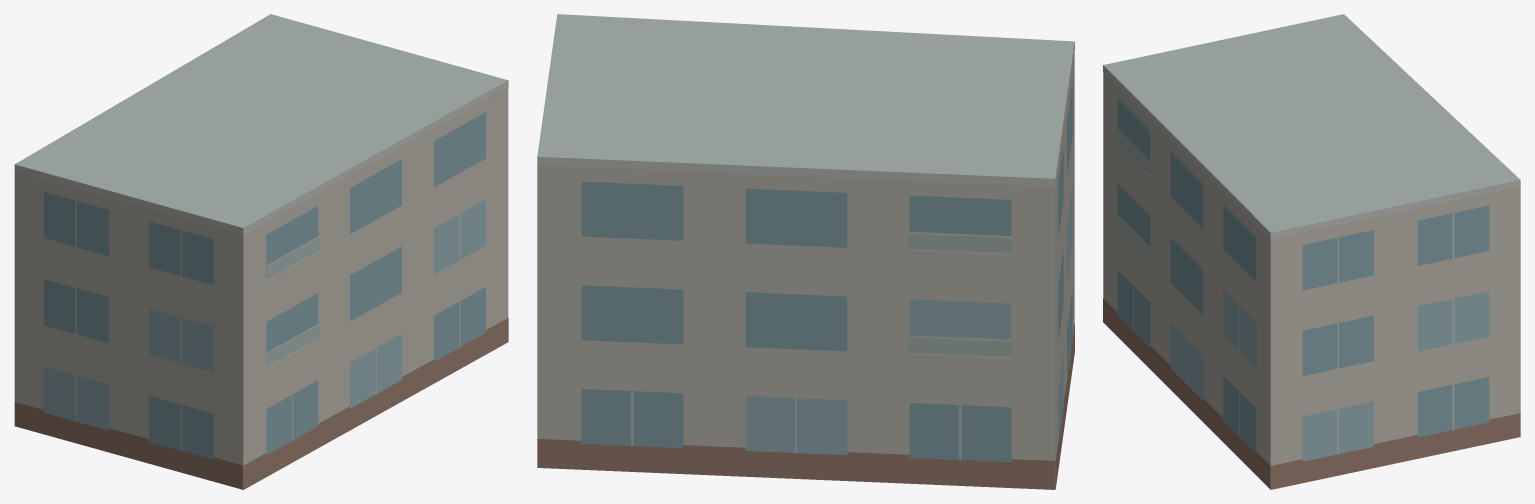
The model's file is survey-upis-33037515.glb.
The picture shows the model from 3 angles, left to right: view 1: azimuth 30°, elevation 25°; view 2: azimuth 150°, elevation 25°; view 3: azimuth 270°, elevation 25°; orthographic projection. The views are drawn at different scales.
Parts seen in each view (by area): view 1: survey-upis-33037515.tmp; view 2: survey-upis-33037515.tmp; view 3: survey-upis-33037515.tmp.
Boxes of the visible parts, left/top/right/bottom form: survey-upis-33037515.tmp: left=14, top=14, right=508, bottom=489; survey-upis-33037515.tmp: left=537, top=14, right=1074, bottom=489; survey-upis-33037515.tmp: left=1103, top=14, right=1520, bottom=489.
Size of the model in its own units: 16.71 by 9.15 by 13.47.
